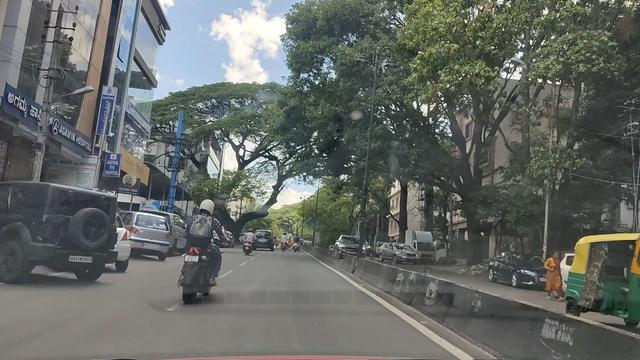LMV: (5, 177, 117, 292), (184, 194, 228, 305)
